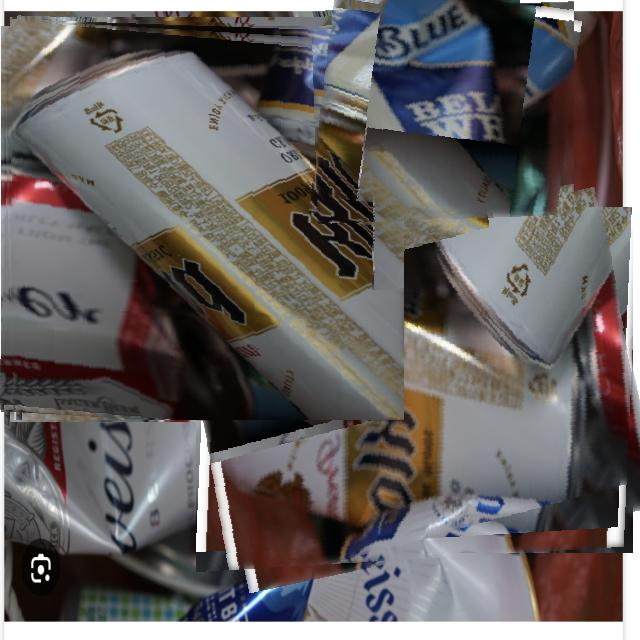recyclable: (196, 207, 640, 573), (2, 19, 404, 420), (311, 0, 574, 224)
